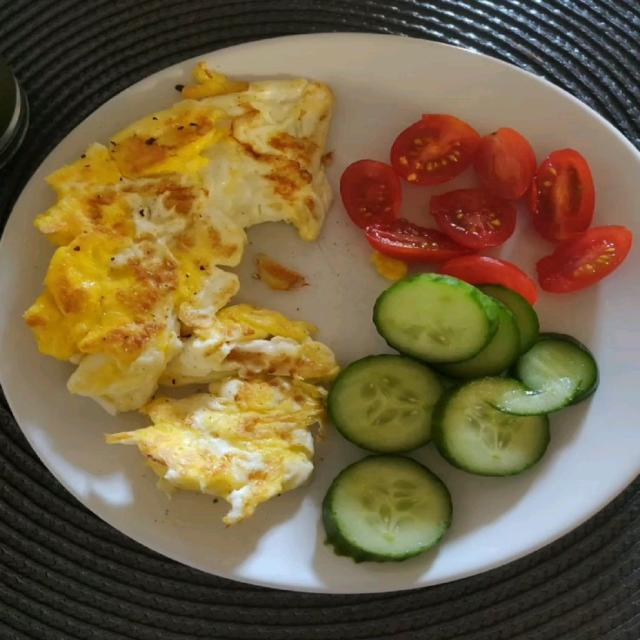omelette: (26, 64, 338, 523), (26, 65, 333, 412), (107, 378, 325, 523)
